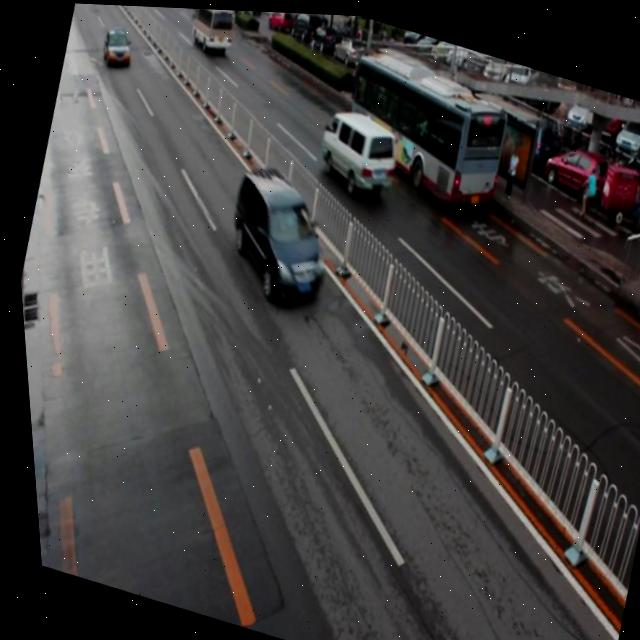car: (98, 24, 136, 70)
truck: (209, 158, 342, 309), (307, 99, 405, 199), (186, 6, 242, 55)
van: (328, 47, 519, 213)
